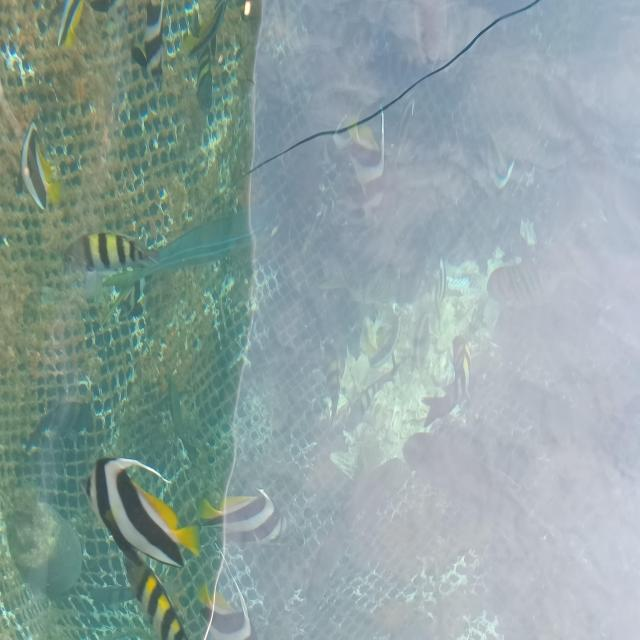ikan: (82, 456, 201, 570), (122, 553, 188, 639), (197, 487, 287, 548), (421, 334, 472, 428), (14, 119, 62, 212), (62, 230, 160, 275), (196, 580, 252, 639), (56, 0, 84, 48)
